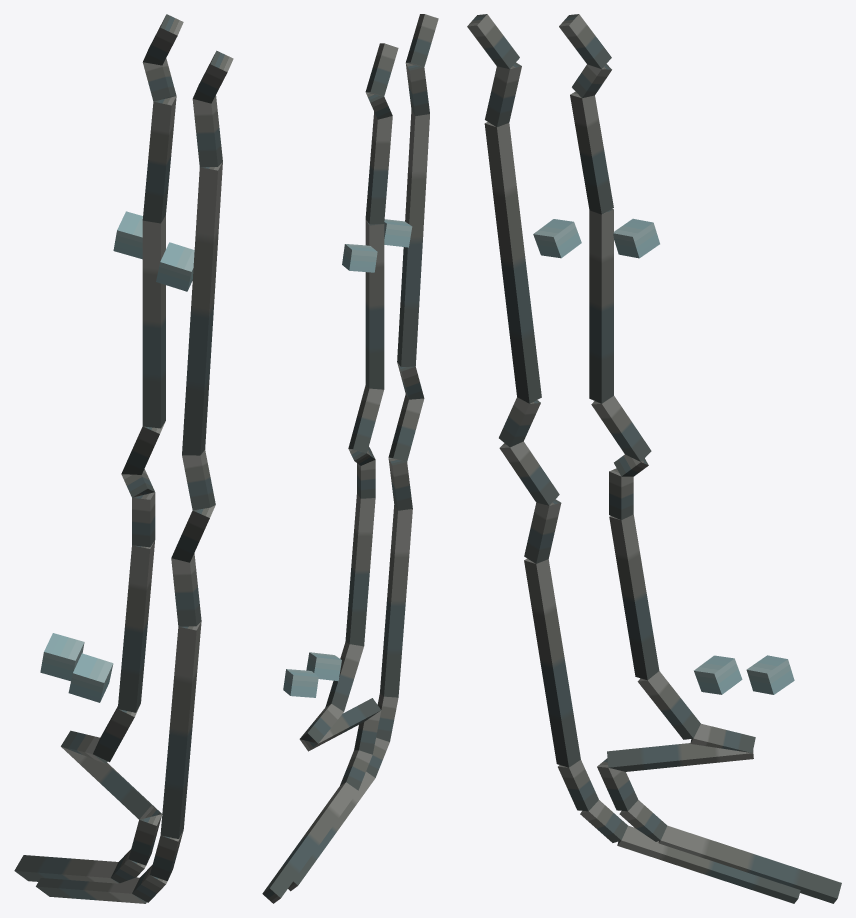
File: pz_native_electrical_207.obj
3 renders of one model, left to right at view 1: azimuth 30°, elevation 25°; view 2: azimuth 150°, elevation 25°; view 3: azimuth 270°, elevation 25°, orthographic. The views are drawn at different scales.
Parts seen in each view (by area): view 1: conduit, conduit_end; view 2: conduit, conduit_end; view 3: conduit, conduit_end.
Boxes of the visible parts, left/top/right/bottom form: conduit: left=14, top=16, right=227, bottom=903; conduit_end: left=44, top=14, right=233, bottom=903; conduit: left=263, top=14, right=438, bottom=897; conduit_end: left=262, top=62, right=423, bottom=903; conduit: left=467, top=14, right=841, bottom=903; conduit_end: left=467, top=14, right=787, bottom=844.
Size of the model in its own units: 0.042 by 0.9555 by 0.3649.
1 material, 1 textured.
